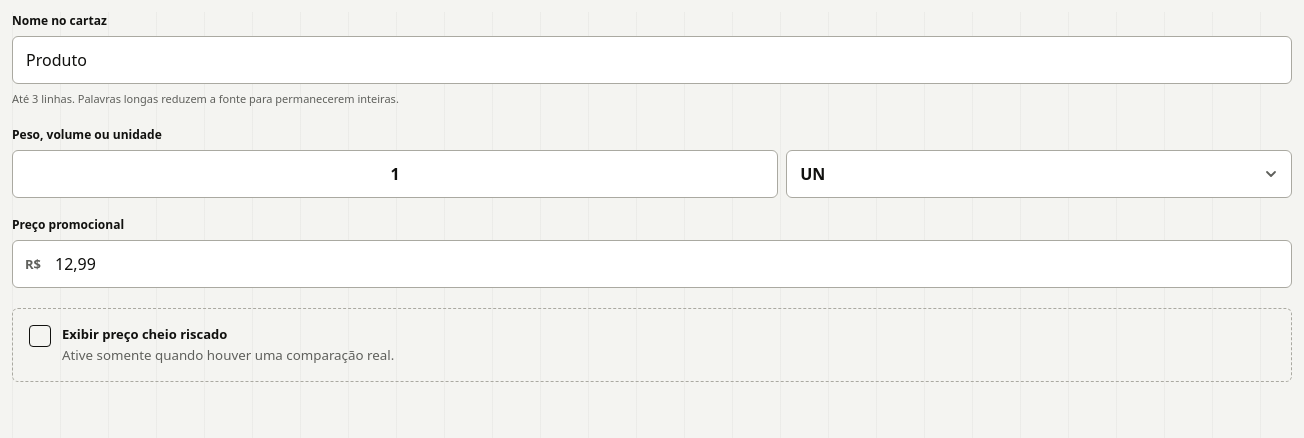
OfferControls › uses the compact UN label in the unit selector
Click the button with aria-label "Unidade da apresentação" at (813, 174), box [786,150,1292,198]
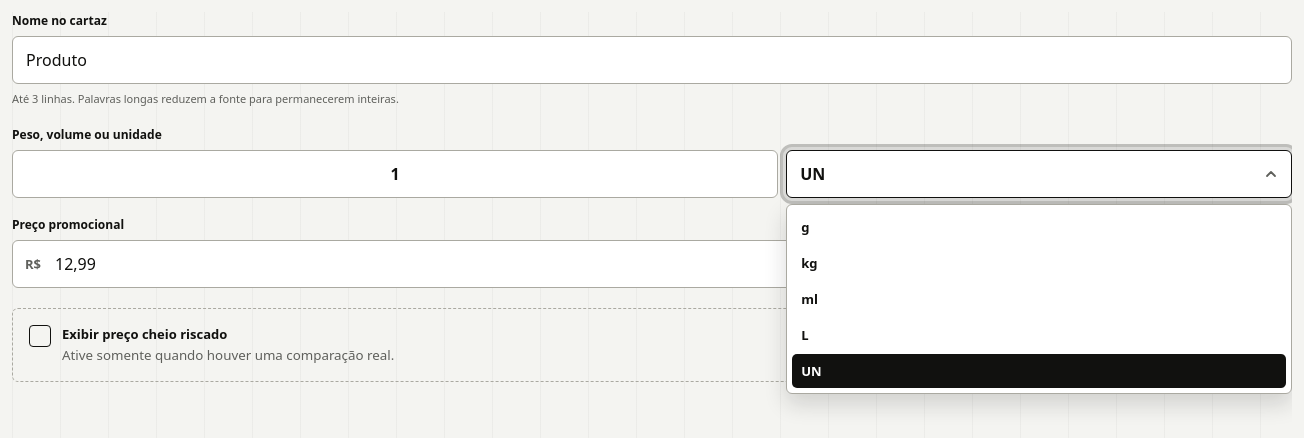
Expected: the option "UN" is shown, [792,354,1286,388]
